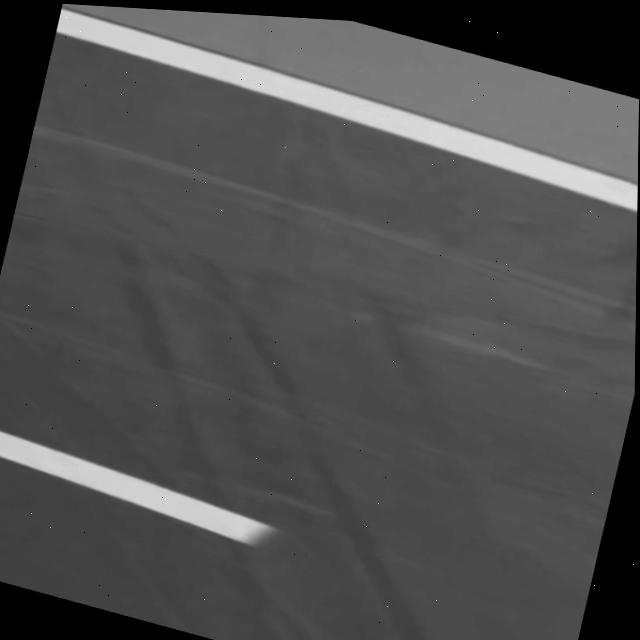center: (0, 432, 271, 545)
right: (54, 8, 638, 213)
